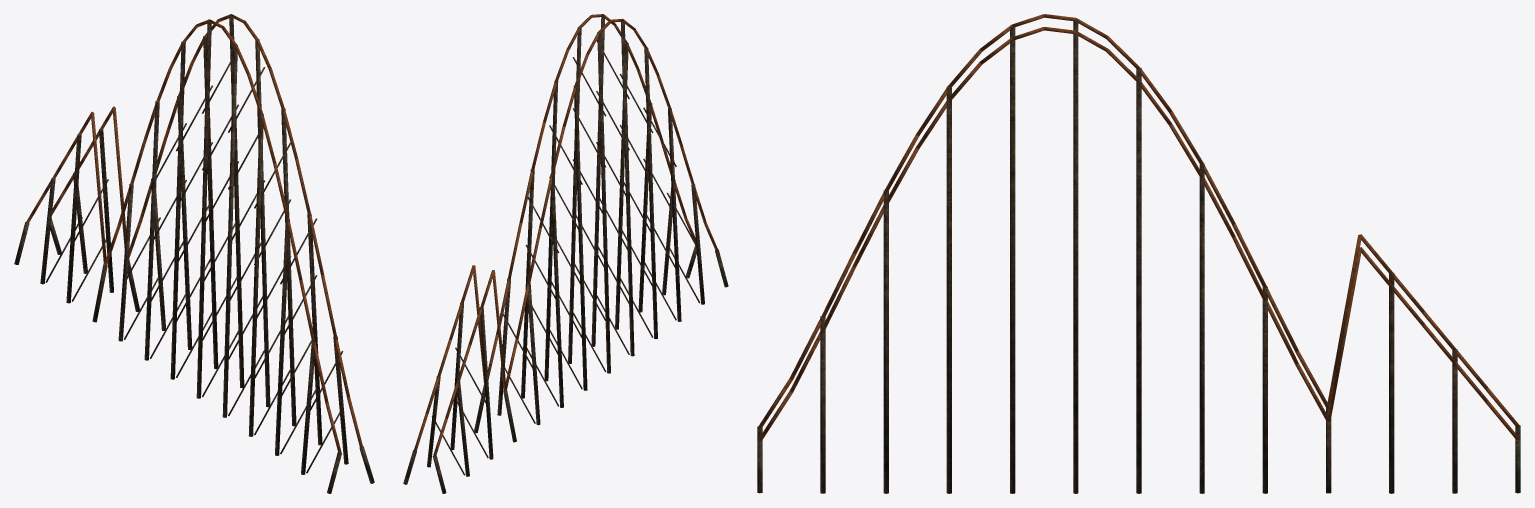
Rendered from coaster_hill.glb.
3 renders of one model, left to right at view 1: azimuth 30°, elevation 25°; view 2: azimuth 150°, elevation 25°; view 3: azimuth 270°, elevation 25°, orthographic. The views are drawn at different scales.
Visible parts, largest first — view 1: Main; view 2: Main; view 3: Main.
Part boxes in pixels (x1,y1,x2,y2): Main: [14, 14, 374, 493]; Main: [403, 14, 728, 493]; Main: [757, 14, 1520, 493].
Size of the model in its own units: 2.64 by 20.1 by 30.21.
1 material, 1 textured.
